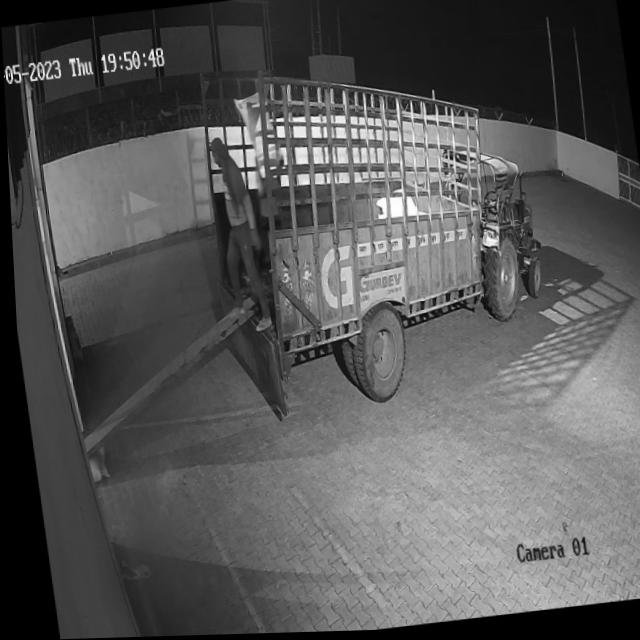sack: (231, 91, 285, 183)
